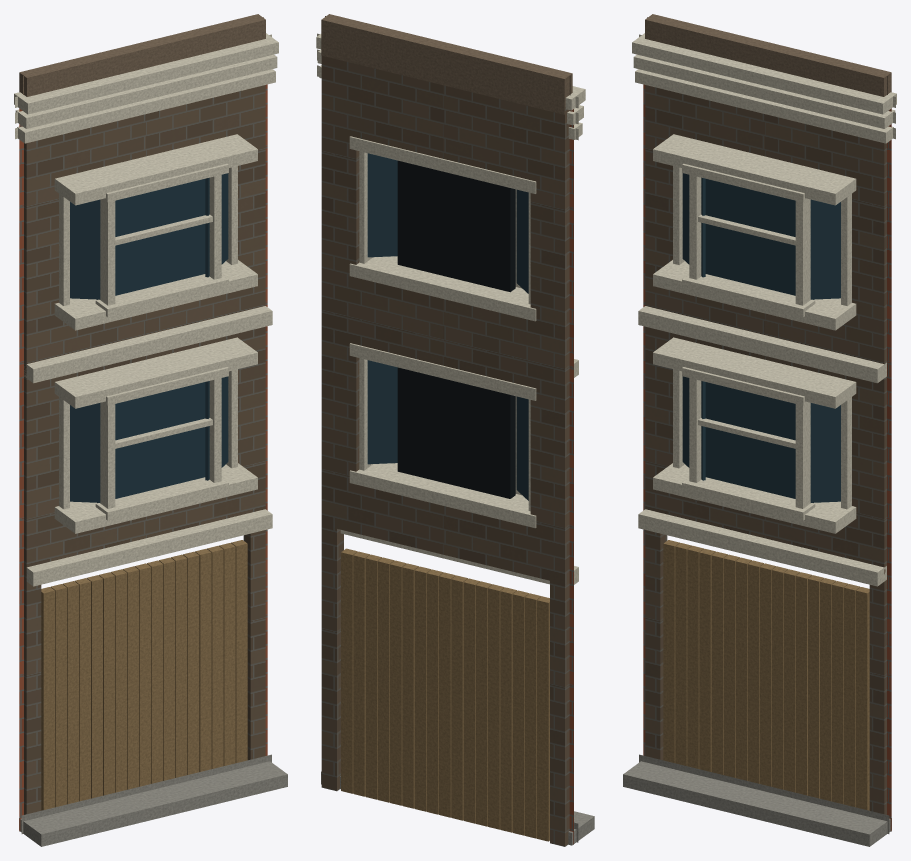
The model's file is VICT21_lod2.glb.
3 views of the same model, side by side, from view 1: azimuth 30°, elevation 25°; view 2: azimuth 150°, elevation 25°; view 3: azimuth 330°, elevation 25° (orthographic).
Visible parts, largest first — view 1: VICT21_FRONT_LOD2; view 2: VICT21_FRONT_LOD2; view 3: VICT21_FRONT_LOD2.
Boxes of the visible parts, x1=… form: VICT21_FRONT_LOD2: x1=14, y1=14, x2=287, y2=846; VICT21_FRONT_LOD2: x1=316, y1=14, x2=594, y2=846; VICT21_FRONT_LOD2: x1=623, y1=14, x2=896, y2=846.
Bounding box in the file's own units: 3.44 × 9.66 × 0.695.
Materials: 9 (7 with a texture image).
